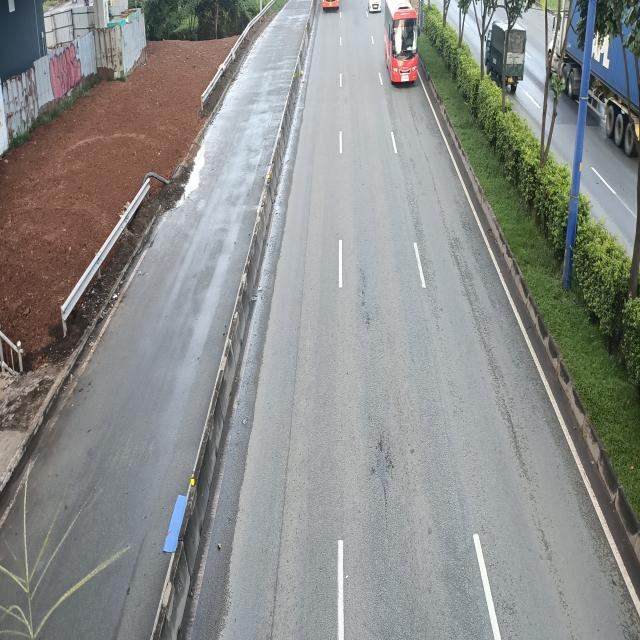coach: (386, 2, 422, 86)
